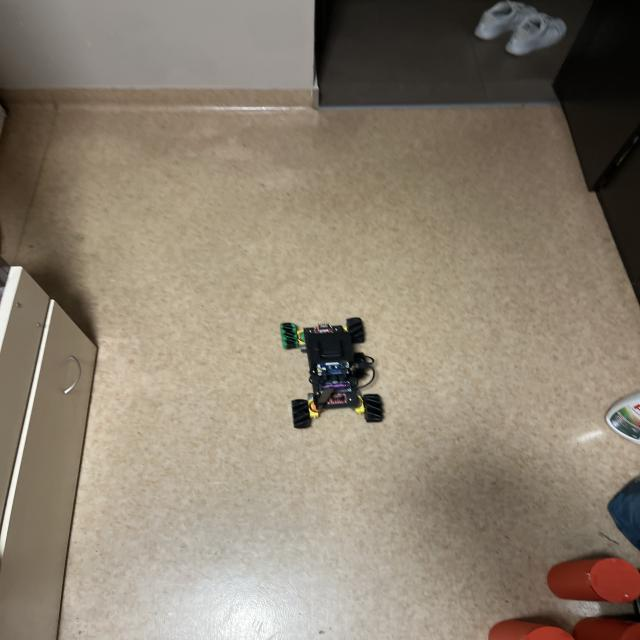robot: (280, 317, 383, 428)
